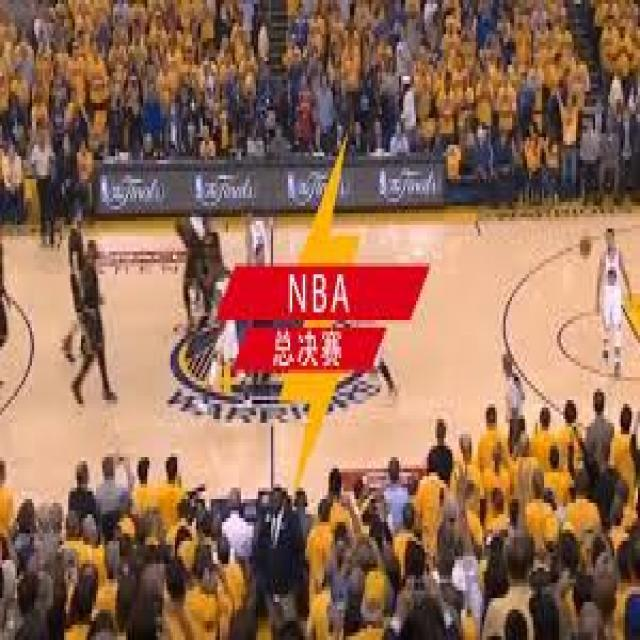rim: (578, 232, 593, 259)
